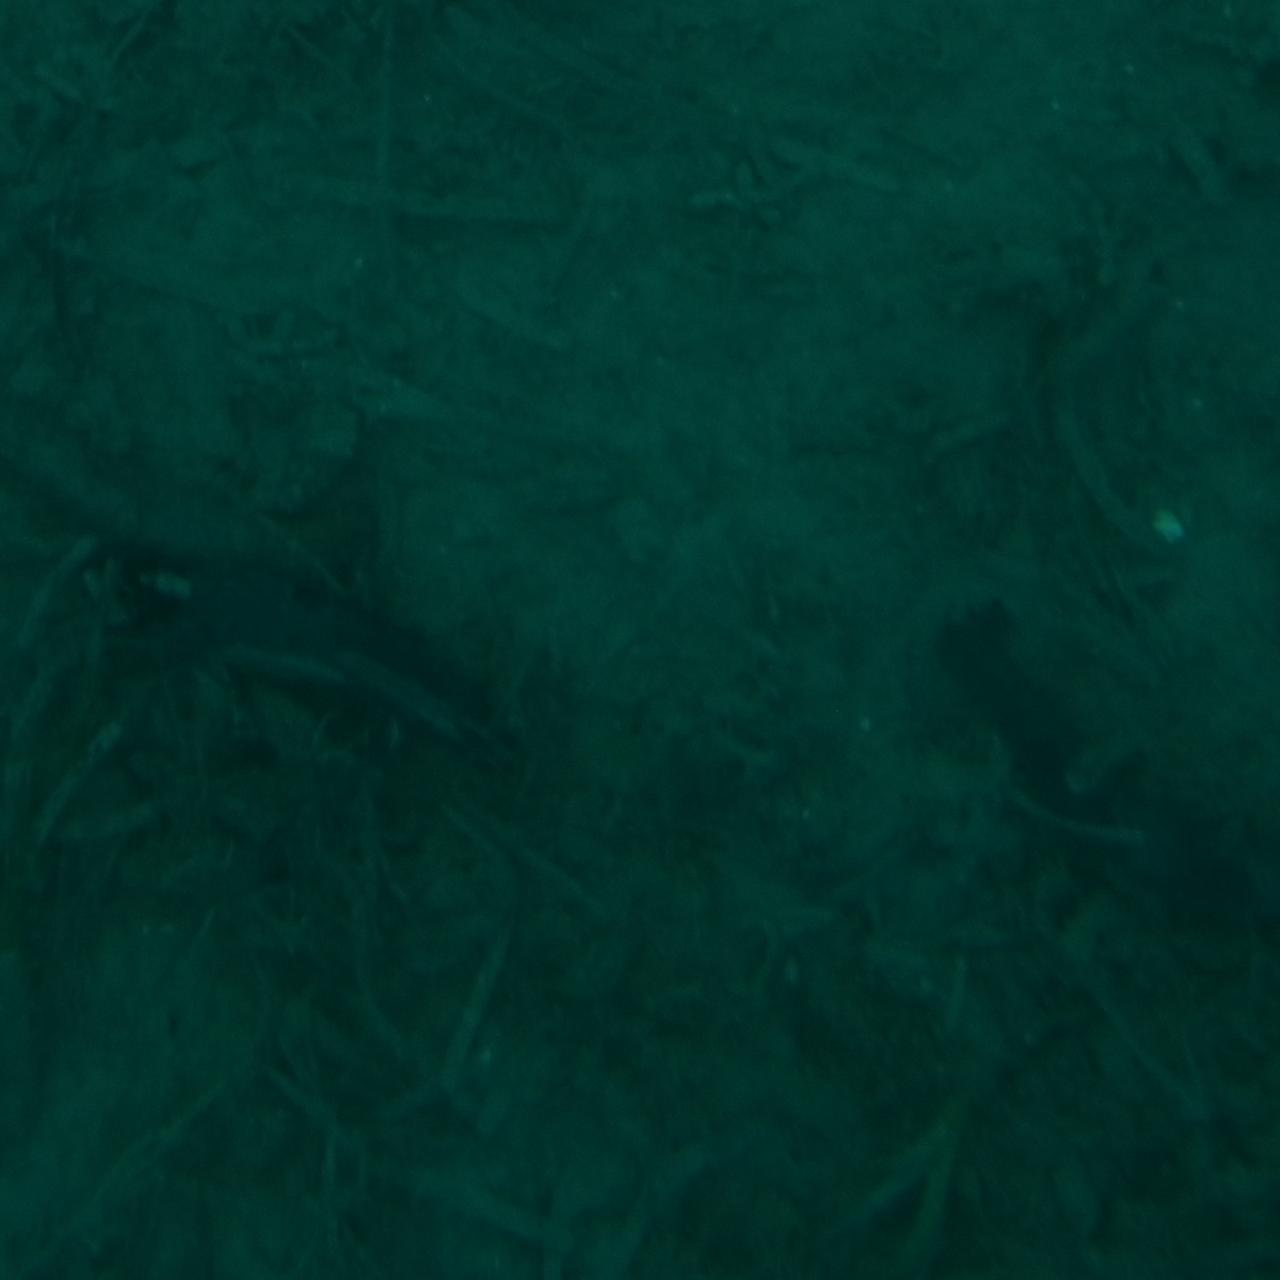Holothuria tubulosa: (945, 606, 1271, 952), (0, 383, 381, 621), (132, 585, 533, 789)
